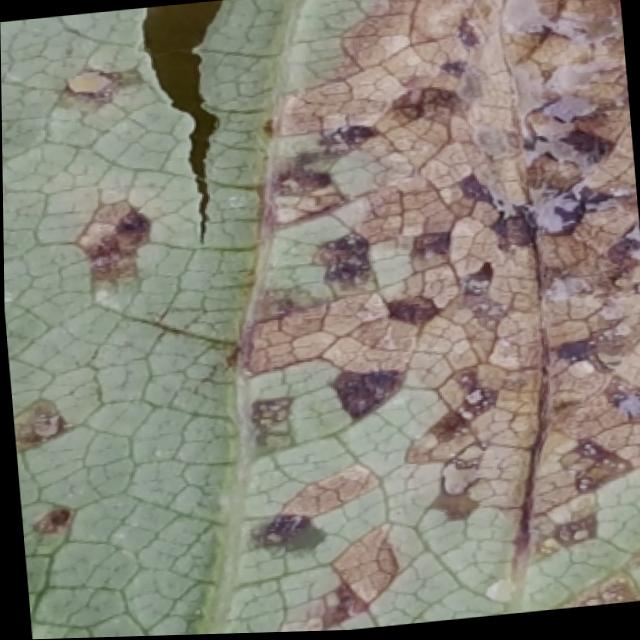Angular Leafspot: (1, 0, 640, 634)
